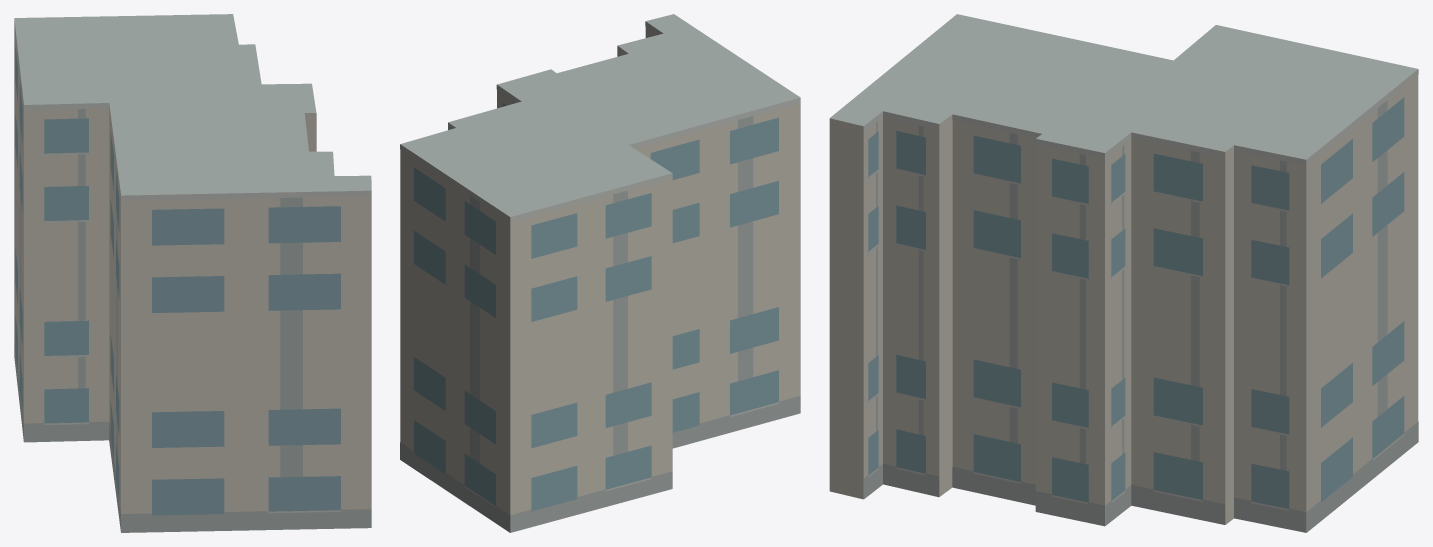
Rendered from survey-upis-32968062.glb.
3 renders of one model, left to right at view 1: azimuth 30°, elevation 25°; view 2: azimuth 150°, elevation 25°; view 3: azimuth 270°, elevation 25°, orthographic. The views are drawn at different scales.
Parts seen in each view (by area): view 1: survey-upis-32968062.tmp; view 2: survey-upis-32968062.tmp; view 3: survey-upis-32968062.tmp.
Part boxes in pixels (x1,y1,x2,y2): survey-upis-32968062.tmp: [14, 14, 371, 532]; survey-upis-32968062.tmp: [400, 14, 800, 532]; survey-upis-32968062.tmp: [829, 14, 1418, 532].
Size of the model in its own units: 12.49 by 14.9 by 21.32.
